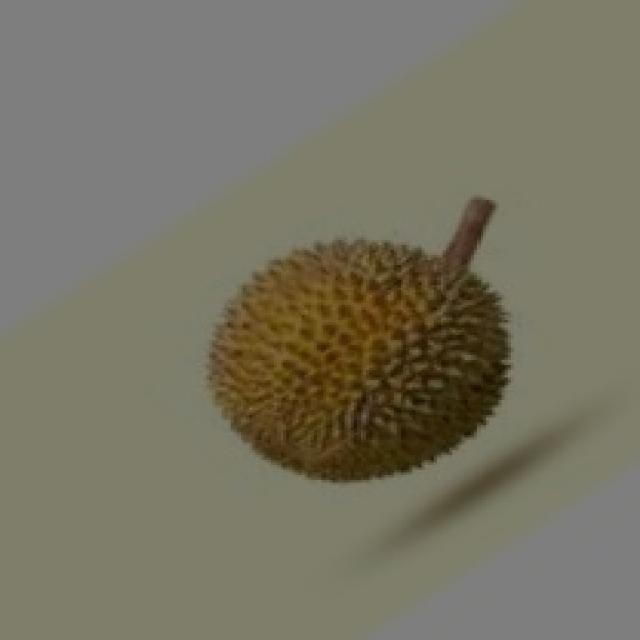fruit: (169, 205, 542, 515)
